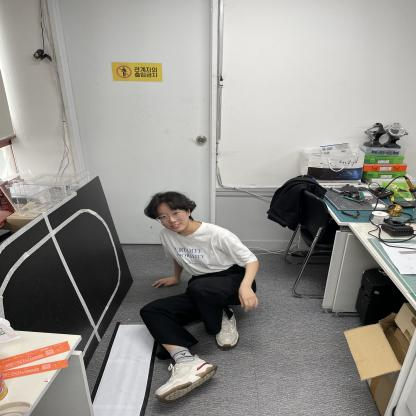fall: (145, 187, 259, 396)
